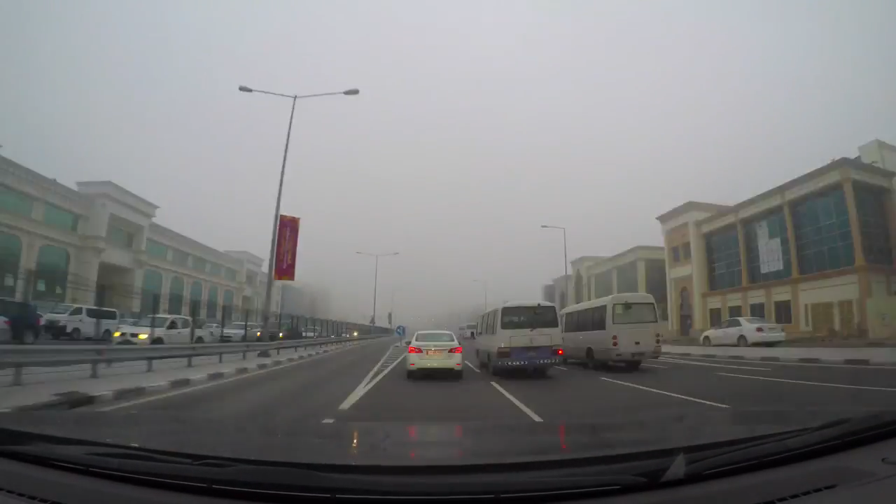bus: (457, 322, 479, 339)
car: (555, 291, 664, 374), (473, 300, 565, 378), (109, 315, 207, 353), (44, 302, 120, 343), (404, 329, 465, 379), (697, 316, 789, 348), (1, 298, 44, 345), (223, 319, 266, 344), (259, 318, 294, 344), (198, 321, 226, 341), (301, 324, 322, 340)
